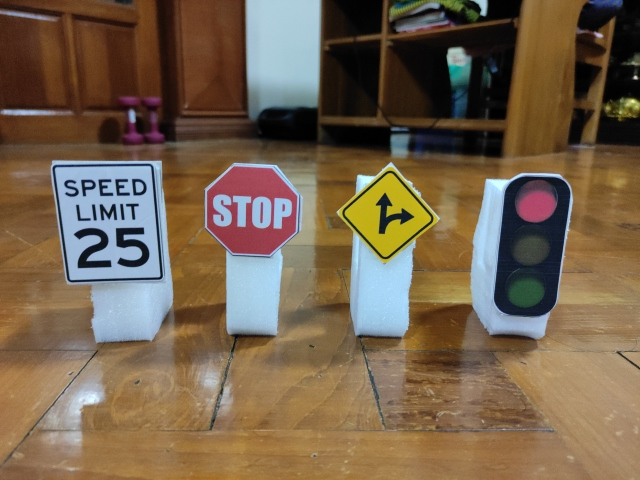Red Traffic Light: (493, 173, 571, 317)
Speed Limit 25: (50, 159, 165, 285)
Stop Sign: (205, 163, 302, 258)
Straight Or Right Sign: (340, 165, 439, 263)
